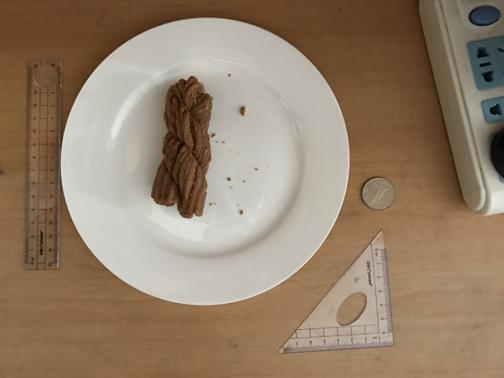coin: (362, 175, 397, 209)
fired_dough_twist: (152, 76, 215, 216)
